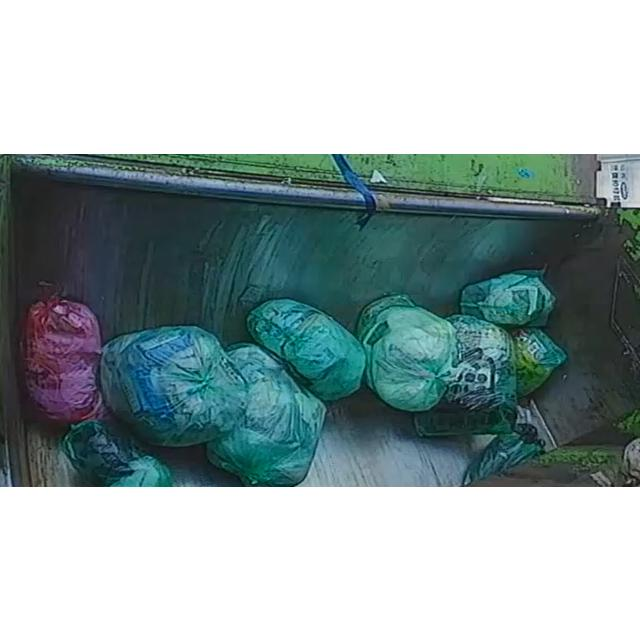general_trashbag: (100, 324, 246, 446), (208, 344, 326, 485), (414, 314, 516, 435), (246, 298, 366, 399), (358, 293, 456, 410), (62, 419, 171, 485), (461, 268, 556, 325), (464, 423, 542, 484), (511, 327, 568, 396), (561, 401, 562, 403)
other_trashbag: (22, 279, 105, 420)
